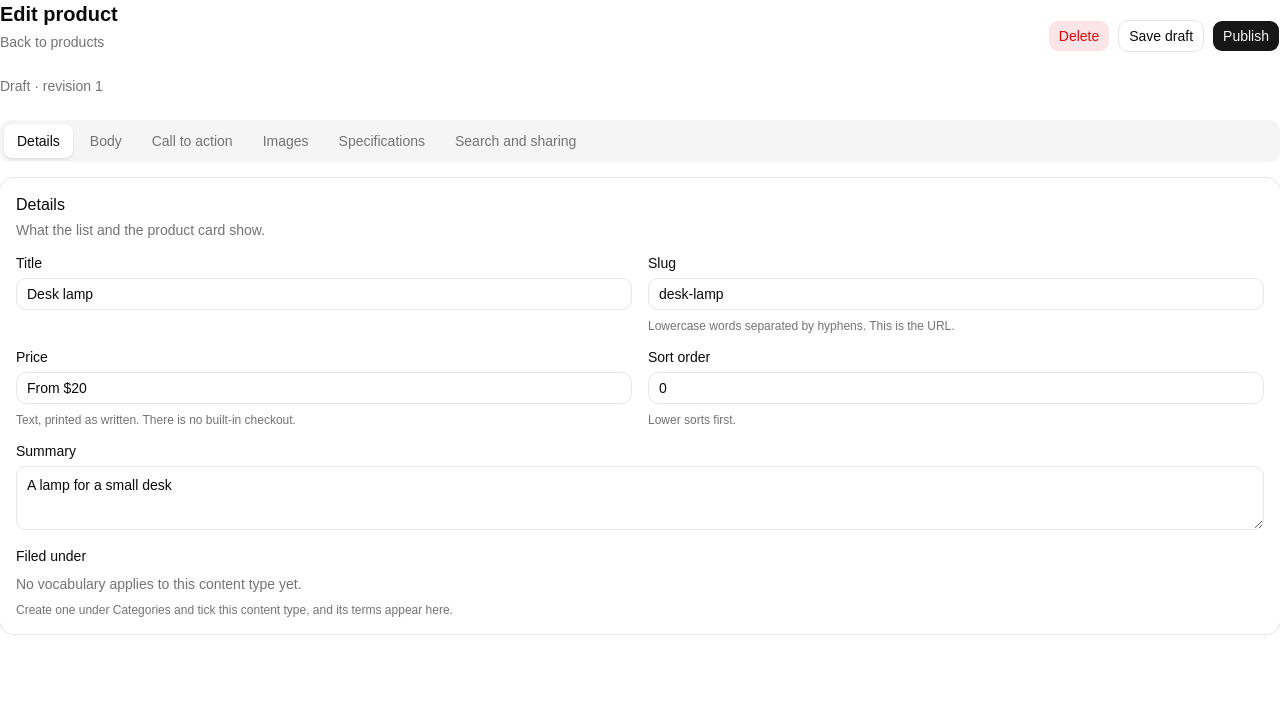
Test: choosing media › offers the library for the cover image
The width and height of the screenshot is (1280, 720).
Click the tab "Images": (286, 141) [250,124,322,158]
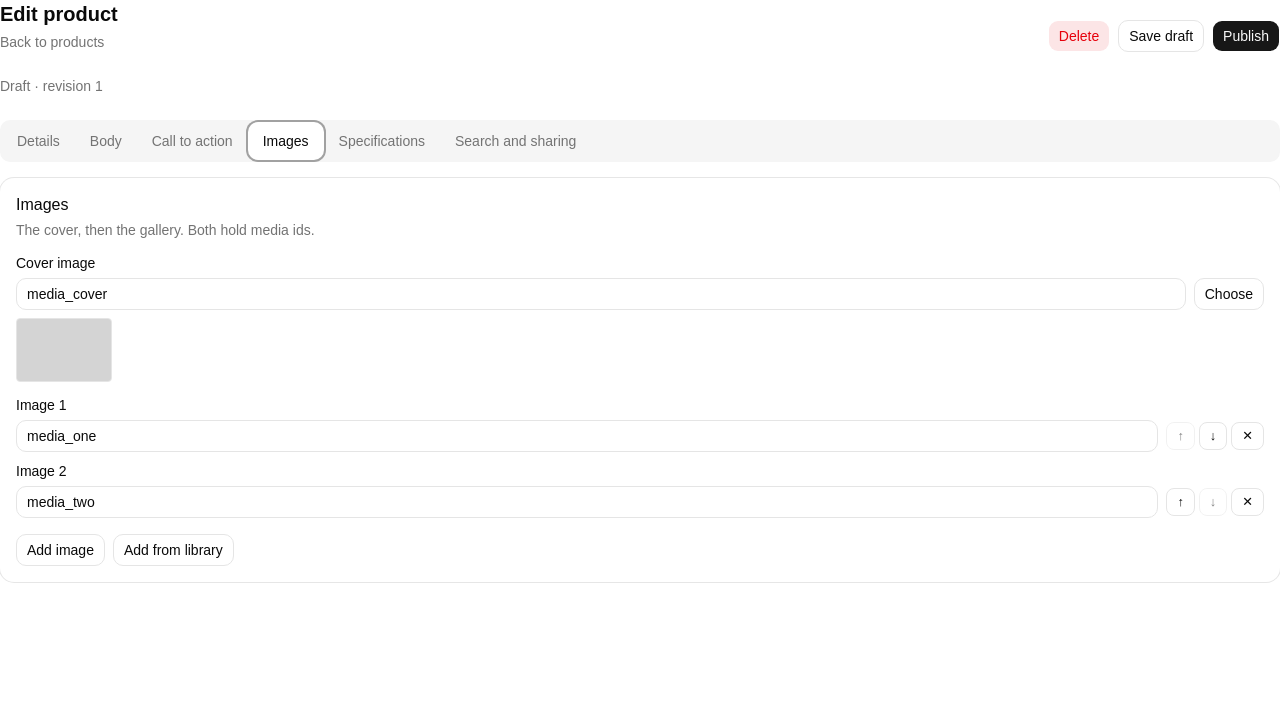
Click the button with aria-label "Choose cover image": (1229, 294) [1194,278,1264,310]
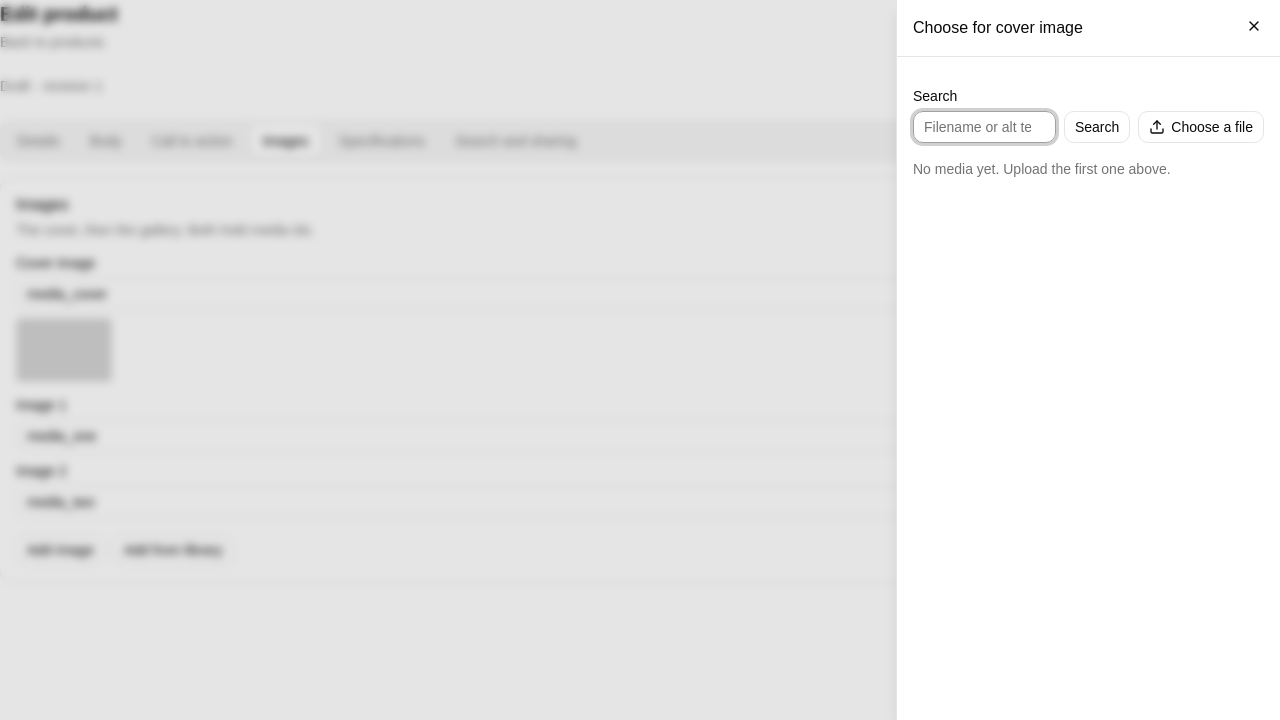
expect the heading "Choose for cover image" is shown: met, box [913,19,1083,36]
